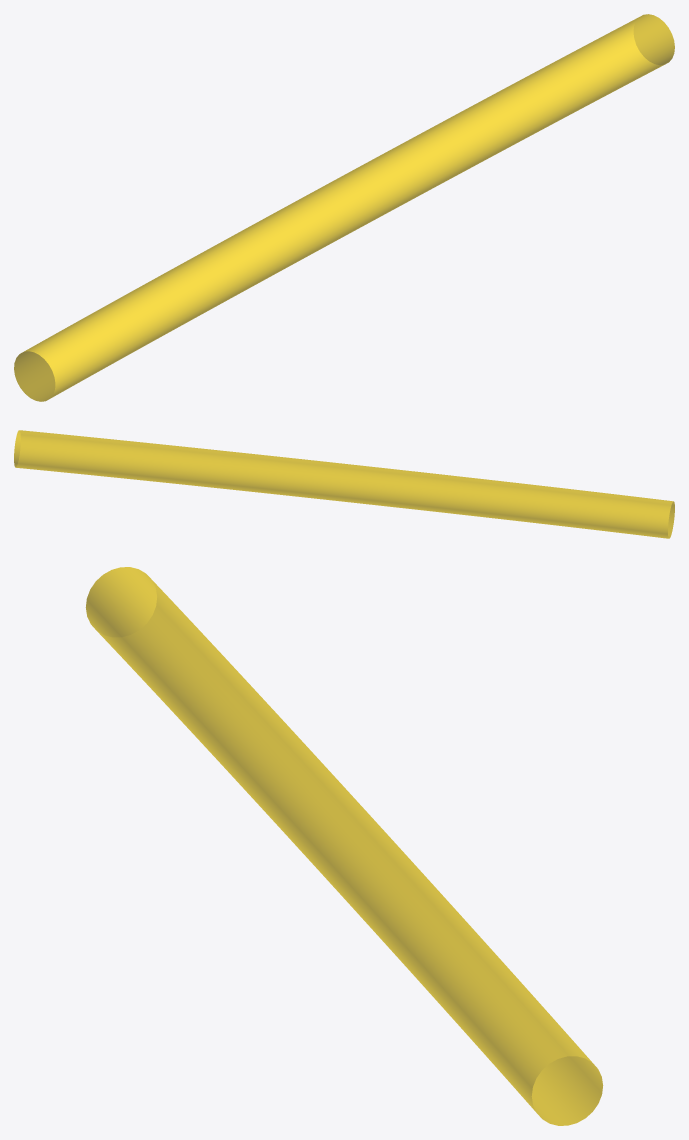
File: Event_17758602_track_29.fbx
The picture shows the model from 3 angles, top to bottom: view 1: azimuth 30°, elevation 25°; view 2: azimuth 150°, elevation 25°; view 3: azimuth 270°, elevation 25°; orthographic projection. The views are drawn at different scales.
Visible parts, largest first — view 1: Model; view 2: Model; view 3: Model.
Boxes of the visible parts, x1,y1,x2,y2 form: Model: [14, 14, 674, 401]; Model: [14, 430, 674, 538]; Model: [85, 567, 603, 1125].
Size of the model in its own units: 0.6745 by 0.0637 by 0.273.
